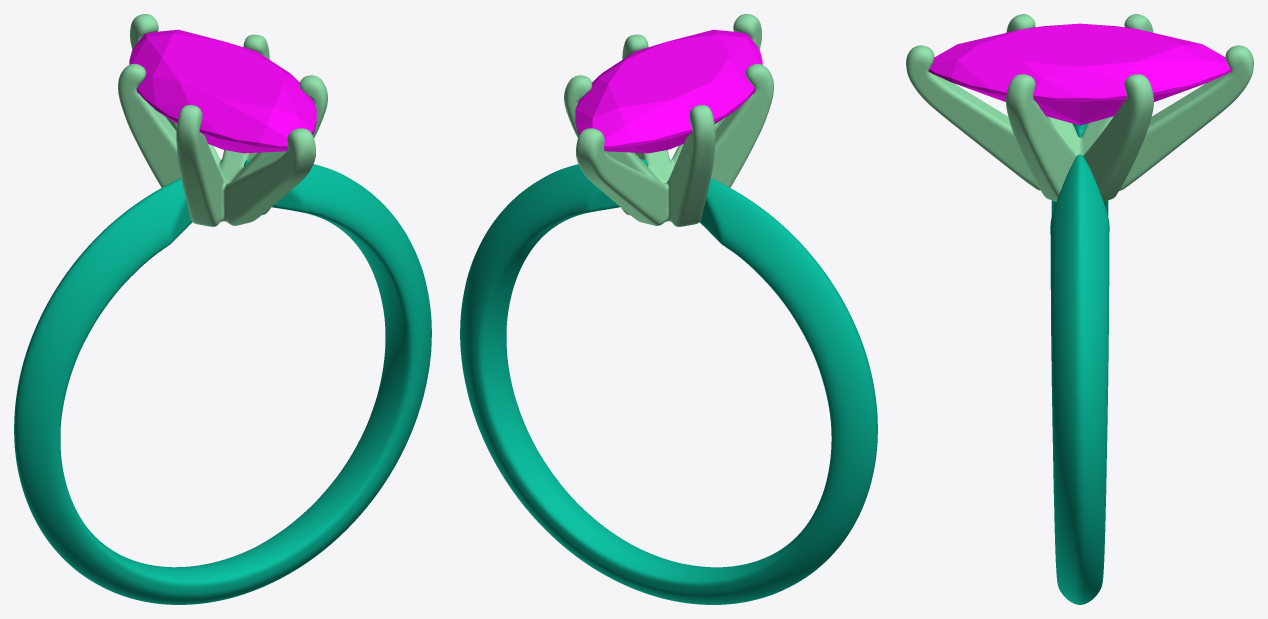
File: BE121H6_MQ_200ct_RENDER.glb
The picture shows the model from 3 angles, left to right: view 1: azimuth 30°, elevation 25°; view 2: azimuth 150°, elevation 25°; view 3: azimuth 270°, elevation 25°; orthographic projection.
Parts seen in each view (by area): view 1: Metal 01, Metal 02, CS_Diamond_Marquise; view 2: Metal 01, Metal 02, CS_Diamond_Marquise; view 3: Metal 01, Metal 02, CS_Diamond_Marquise.
Boxes of the visible parts, <box> form: Metal 01: <box>14,159,431,604</box>; Metal 02: <box>118,14,327,226</box>; CS_Diamond_Marquise: <box>129,29,316,153</box>; Metal 01: <box>460,159,877,604</box>; Metal 02: <box>564,14,773,226</box>; CS_Diamond_Marquise: <box>575,29,762,153</box>; Metal 01: <box>1050,123,1109,604</box>; Metal 02: <box>906,14,1253,201</box>; CS_Diamond_Marquise: <box>928,23,1231,125</box>.
Bounding box in the file's own units: 20.07 × 24.37 × 14.31.
